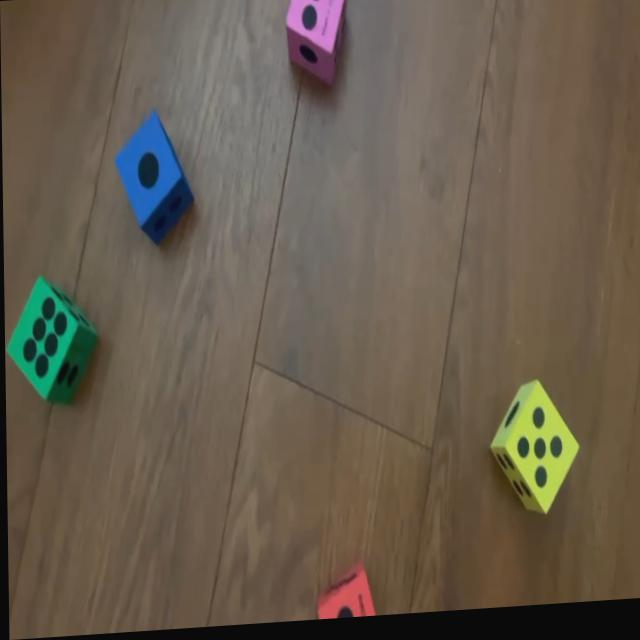cube: (4, 276, 95, 400), (116, 111, 192, 245), (314, 569, 377, 624)
